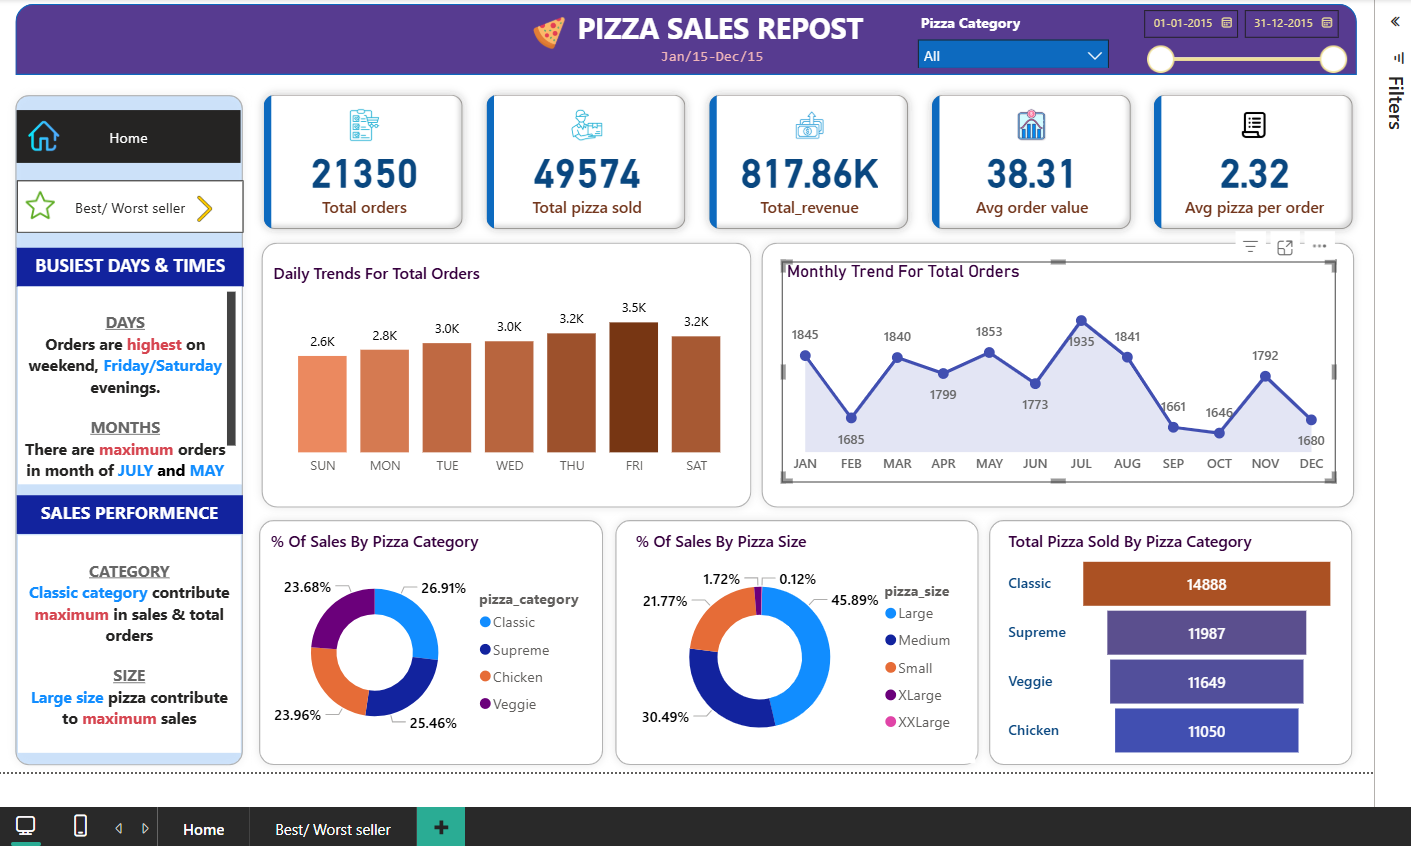

What the dashboard file says about the page in this screenshot:
{"tool":"powerbi","page":{"name":"Home","canvas":[1280,720],"ordinal":0},"visuals":[{"type":"cardVisual","fields":{"Data":["public pizza_sales.Total orders","public pizza_sales.Total pizza sold","public pizza_sales.Total_revenue","public pizza_sales.Avg order value","public pizza_sales.Avg pizza per order"]},"box":[231,73.4,1049.9,158],"z":0},{"type":"shape","box":[16.2,5,1247.7,66],"z":1000},{"type":"textbox","box":[513.8,4,316,68.4],"z":2000},{"type":"textbox","box":[612,38,120.7,39],"z":3000},{"type":"image","box":[454,12,118.2,40],"z":4000},{"type":"shape","box":[237.6,218.9,471.5,262.5],"z":5000},{"type":"columnChart","title":"Daily Trends For Total Orders","fields":{"Y":["public pizza_sales.Total orders"],"Category":["public pizza_sales.Order day"]},"box":[251.3,243.8,450.3,207.7],"z":6000},{"type":"shape","box":[702.8,218.9,567.2,262.5],"z":7000},{"type":"areaChart","title":"Monthly Trend For Total Orders","fields":{"Category":["public pizza_sales.Order month"],"Y":["public pizza_sales.Total orders"]},"box":[729,243.8,515,206.5],"z":8000},{"type":"shape","box":[235,477,336,243.8],"z":9000},{"type":"shape","box":[914,476.4,354,243.8],"z":10000},{"type":"shape","box":[566,476.4,354,243.8],"z":11000},{"type":"donutChart","title":"% Of Sales By Pizza Category","fields":{"Category":["public pizza_sales.pizza_category"],"Y":["Sum(public pizza_sales.total_price)"]},"box":[248.8,493.9,303.5,207.7],"z":12000},{"type":"donutChart","title":"% Of Sales By Pizza Size","fields":{"Category":["public pizza_sales.pizza_size"],"Y":["Sum(public pizza_sales.total_price)"]},"box":[588.4,493.9,320.9,216.4],"z":13000},{"type":"funnel","title":"Total Pizza Sold By Pizza Category","fields":{"Y":["public pizza_sales.Total pizza sold"],"Category":["public pizza_sales.pizza_category"]},"box":[935.5,493.9,314.7,216.4],"z":14000},{"type":"shape","box":[8.7,80.9,227.6,639.4],"z":15000},{"type":"textbox","box":[17,231.4,211,36.1],"z":16000},{"type":"textbox","box":[18.7,267.5,207.7,184.1],"z":17000},{"type":"textbox","box":[18,462,210,36.1],"z":18000},{"type":"textbox","box":[19,498.8,207,202.8],"z":19000},{"type":"slicer","fields":{"Values":["public pizza_sales.pizza_category"]},"box":[845.9,8,197.8,56],"z":20000},{"type":"slicer","fields":{"Values":["public pizza_sales.order_date"]},"box":[1053.6,0,210.2,73.4],"z":21000},{"type":"pageNavigator","box":[17.4,103.2,209,49.8],"z":22000},{"type":"pageNavigator","box":[17.4,169.2,211.5,49.8],"z":23000},{"type":"image","box":[175.4,176.6,33.6,36.1],"z":24000},{"type":"image","box":[18.7,108.2,48.5,38.6],"z":25000},{"type":"image","box":[21.1,170.4,37.3,42.3],"z":26000}]}

Visuals, with their boxes on the page's 1280x720 design canvas (x1, y1, x2, y2). These are canvas units, not pixel positions in the 1411x846 screenshot, which may show the page scaled, cropped or inside an application window:
cardVisual - public pizza_sales.Total orders x public pizza_sales.Total pizza sold: locate(231, 73, 1281, 231)
shape: locate(16, 5, 1264, 71)
textbox: locate(514, 4, 830, 72)
textbox: locate(612, 38, 733, 77)
image: locate(454, 12, 572, 52)
shape: locate(238, 219, 709, 481)
"Daily Trends For Total Orders" columnChart: locate(251, 244, 702, 452)
shape: locate(703, 219, 1270, 481)
"Monthly Trend For Total Orders" areaChart: locate(729, 244, 1244, 450)
shape: locate(235, 477, 571, 721)
shape: locate(914, 476, 1268, 720)
shape: locate(566, 476, 920, 720)
"% Of Sales By Pizza Category" donutChart: locate(249, 494, 552, 702)
"% Of Sales By Pizza Size" donutChart: locate(588, 494, 909, 710)
"Total Pizza Sold By Pizza Category" funnel: locate(936, 494, 1250, 710)
shape: locate(9, 81, 236, 720)
textbox: locate(17, 231, 228, 268)
textbox: locate(19, 268, 226, 452)
textbox: locate(18, 462, 228, 498)
textbox: locate(19, 499, 226, 702)
slicer - public pizza_sales.pizza_category: locate(846, 8, 1044, 64)
slicer - public pizza_sales.order_date: locate(1054, 0, 1264, 73)
pageNavigator: locate(17, 103, 226, 153)
pageNavigator: locate(17, 169, 229, 219)
image: locate(175, 177, 209, 213)
image: locate(19, 108, 67, 147)
image: locate(21, 170, 58, 213)
